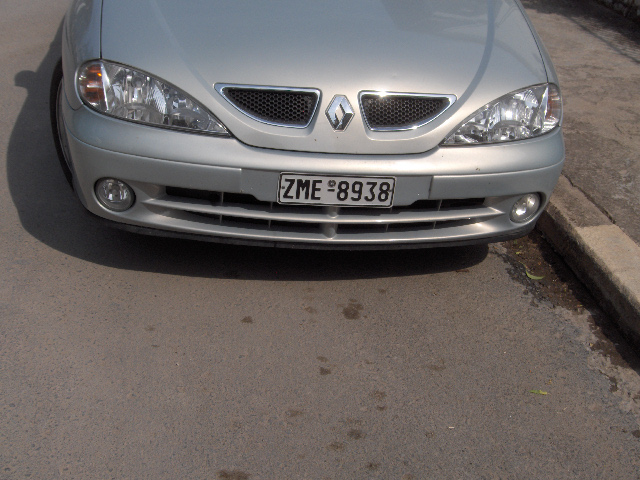licenseplate: (277, 172, 396, 209)
